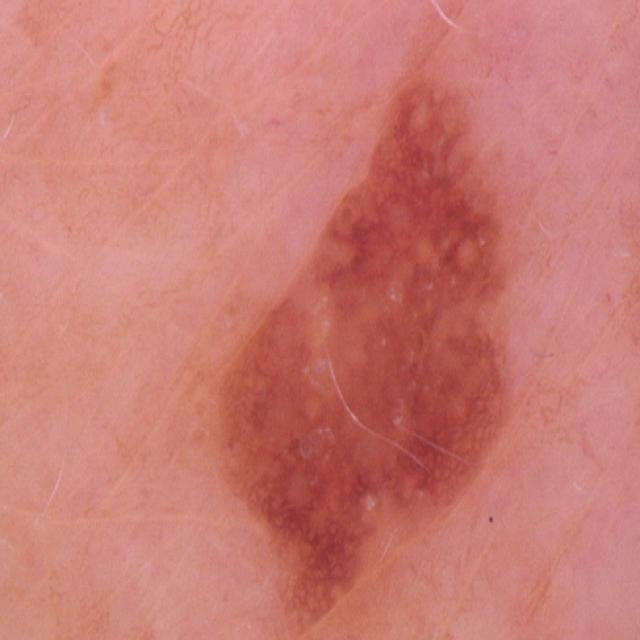Keratosis: (177, 65, 571, 615)
